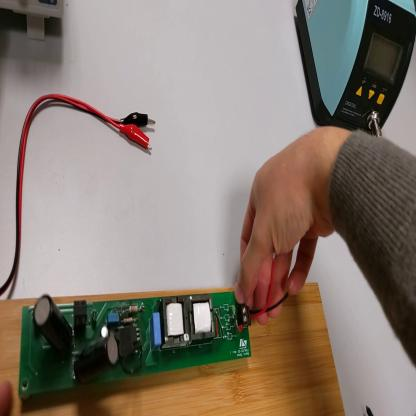hand: (235, 133, 331, 327)
high voltage board: (18, 249, 297, 398)
oscilloscope: (2, 2, 66, 41)
screwdriver-: (366, 406, 374, 416)
welder station: (295, 2, 416, 139)
working area: (2, 283, 347, 416)
